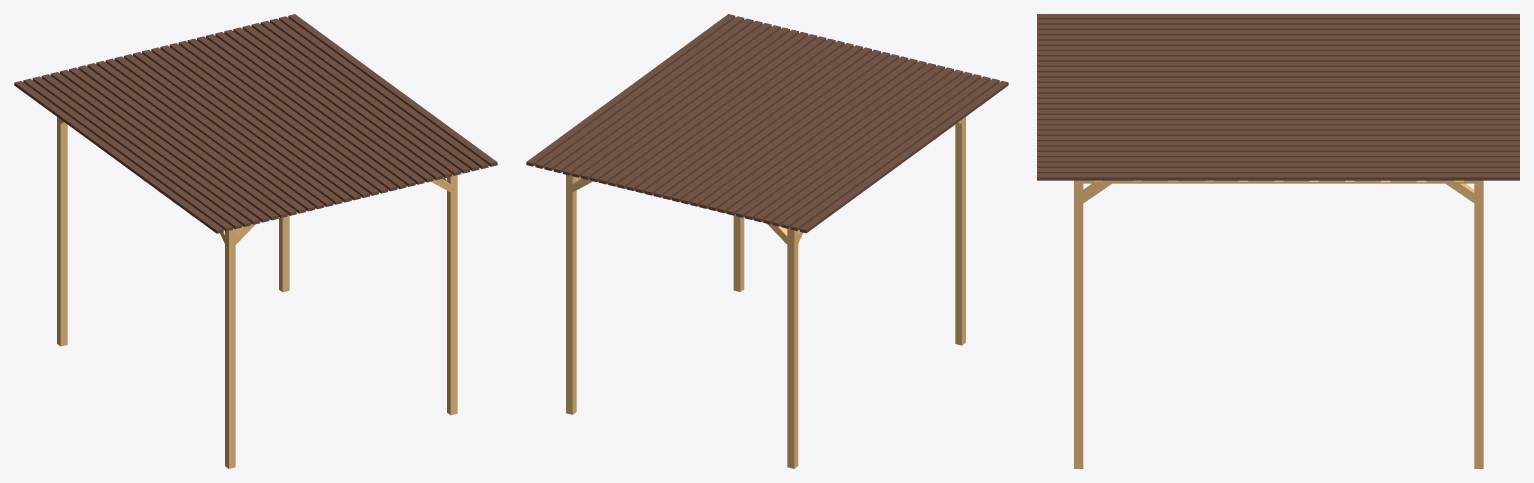
The model's file is Pergola (wooden shade cover).glb.
3 views of the same model, side by side, from view 1: azimuth 30°, elevation 25°; view 2: azimuth 150°, elevation 25°; view 3: azimuth 270°, elevation 25° (orthographic). The views are drawn at different scales.
Parts seen in each view (by area): view 1: group730341539; view 2: group730341539; view 3: group730341539.
Boxes of the visible parts, x1=… form: group730341539: x1=14, y1=14, x2=497, y2=468; group730341539: x1=526, y1=14, x2=1008, y2=468; group730341539: x1=1037, y1=14, x2=1519, y2=468.
Bounding box in the file's own units: 4.98 × 4.3 × 6.15.
